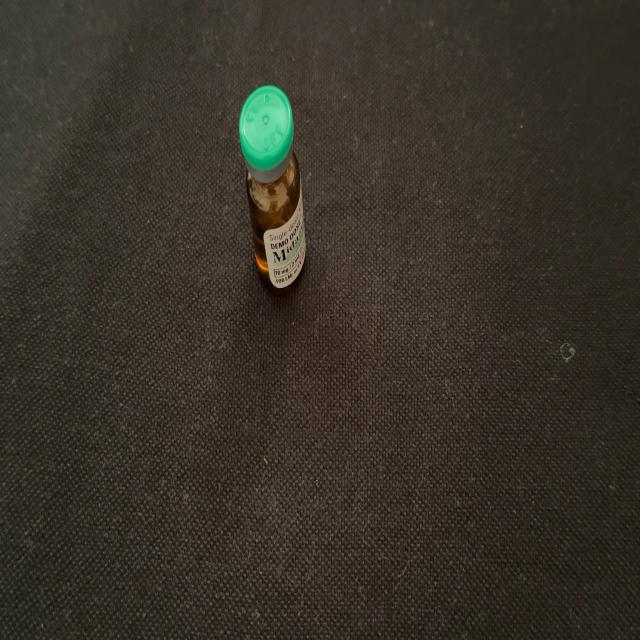midazolm: (239, 88, 306, 290)
